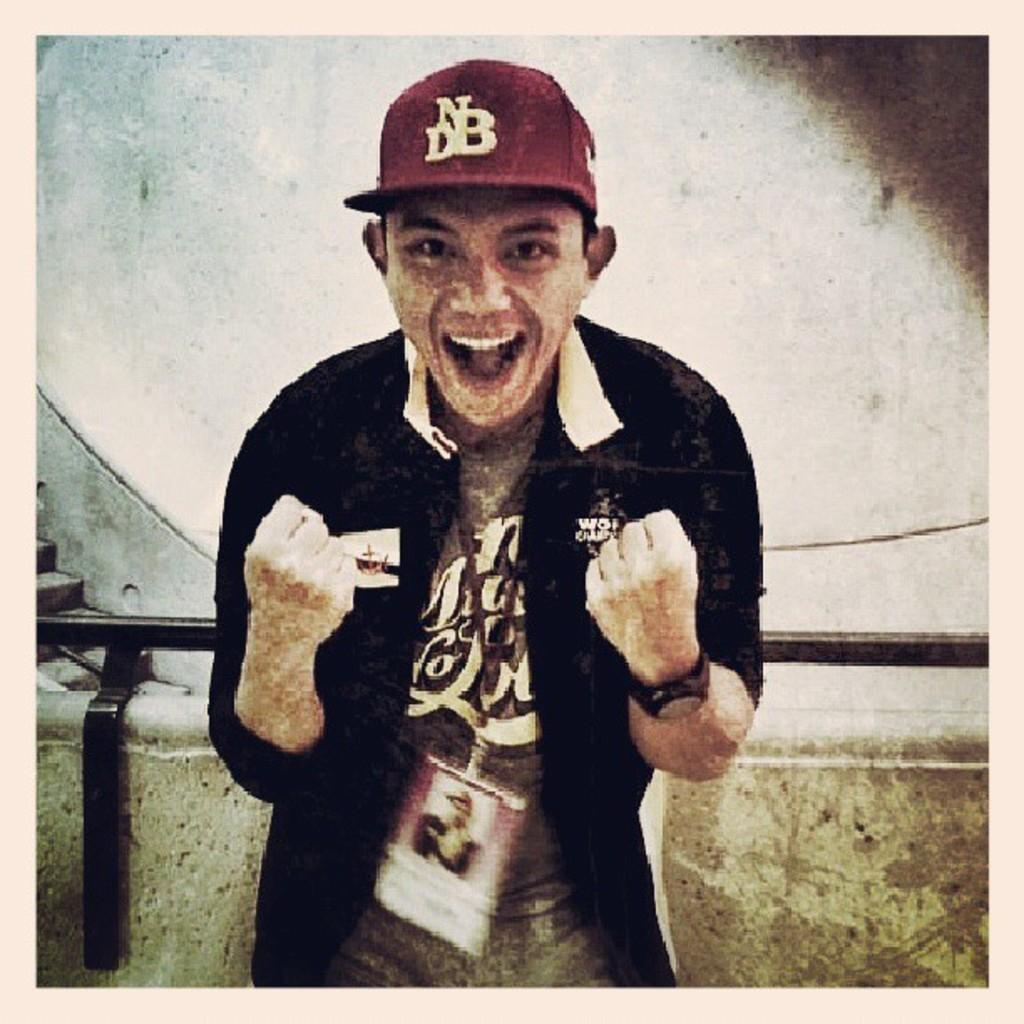Hat: (343, 53, 599, 220)
